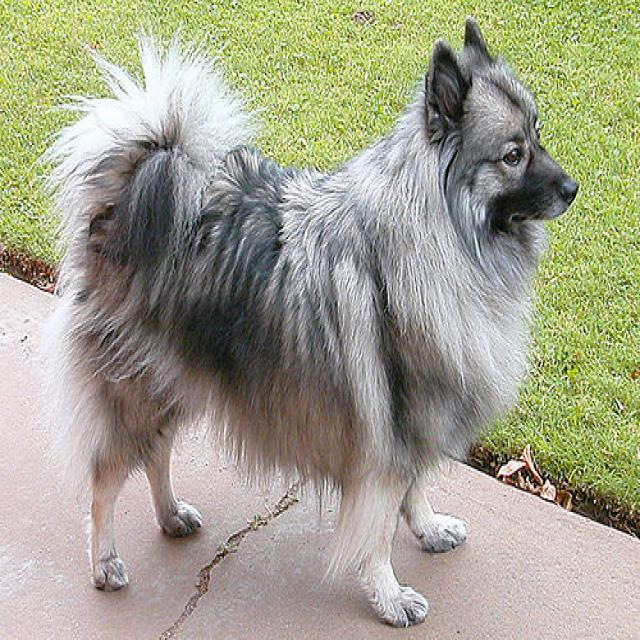dog-keeshond: (51, 9, 584, 637)
